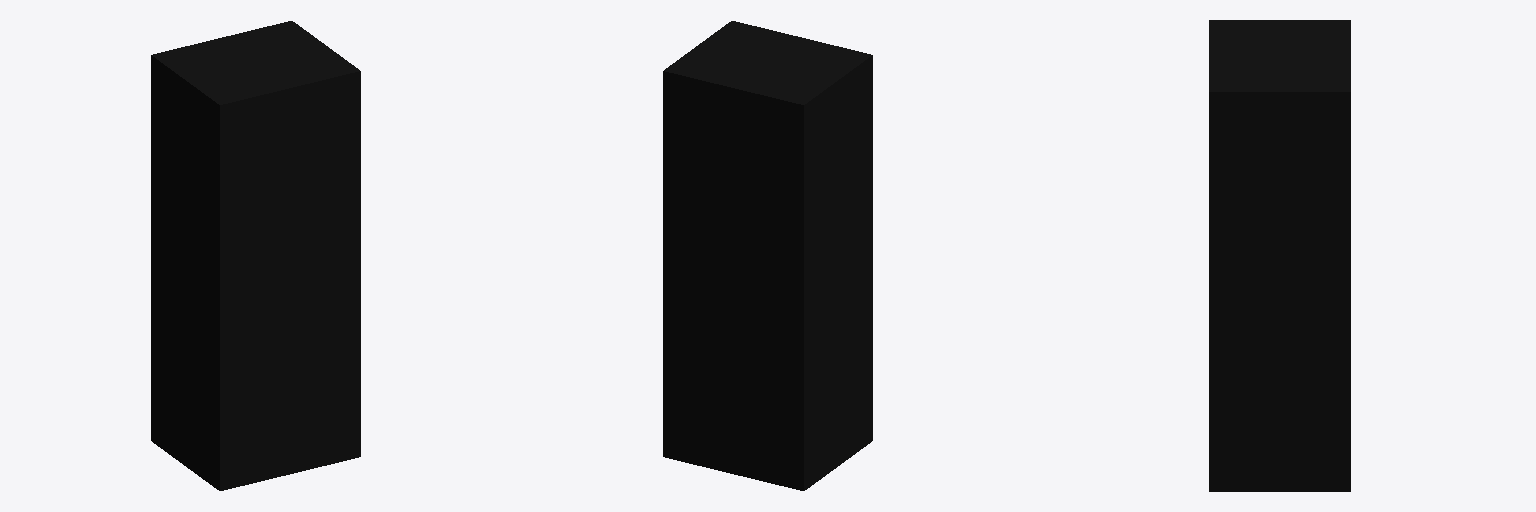
URDF robot description (black_box5):
<?xml version="1.0"?>
<robot name="black_box5">
  <link name="base_link">
    <inertial>
      <origin xyz="0 0 0" rpy="0 0 0" />
      <mass value="0.122" />
      <inertia ixx="0.000360" ixy="0" ixz="0" iyy="0.0000615" iyz="0"
          izz="0.00036" />
    </inertial>
    <visual>
      <origin xyz="0 0 0" rpy="0 0 0" />
      <geometry>
        <box size="0.065 0.055 0.17" />
      </geometry>
      <material name="blackish">
        <color rgba="0.1 0.1 0.1 1.0" />
      </material>
    </visual>

    <!--
      This places contact spheres on the corners of the visual box and a
      *slightly* smaller inset contact box (centered on the visual origin). This
      accounts for issues in the contact computation providing stable table
      contact *and* supports grasping.

      When the box is in stable contact with the ground plane, the corner
      spheres will provide fixed contact points (simulating distributed contact
      points around the face).  However, for arbitrary grip configuration, the
      slightly inset box will provide contact with a *slight* offset (in this
      case a deviation of 0.0005 m from the visual surface).

      https://github.com/RobotLocomotion/drake/issues/6254 tracks the
      difficulty in supporting face-to-face contact.
     -->
    <collision>
      <geometry>
        <box size="0.064 0.054 0.169" />
      </geometry>
    </collision>

    <collision>
      <origin xyz="-0.0825 -0.0275 -0.085" rpy="0 0 0"/>
      <geometry>
        <sphere radius="1e-7"/>
      </geometry>
    </collision>
    <collision>
      <origin xyz="-0.0825 0.0275 -0.085" rpy="0 0 0"/>
      <geometry>
        <sphere radius="1e-7"/>
      </geometry>
    </collision>
    <collision>
      <origin xyz="0.0825 0.0275 -0.085" rpy="0 0 0"/>
      <geometry>
        <sphere radius="1e-7"/>
      </geometry>
    </collision>
    <collision>
      <origin xyz="0.0825 -0.0275 -0.085" rpy="0 0 0"/>
      <geometry>
        <sphere radius="1e-7"/>
      </geometry>
    </collision>

    <!-- Add some spheres near the center too -->
    <collision>
      <origin xyz="-0.0 -0.0275 -0.085" rpy="0 0 0"/>
      <geometry>
        <sphere radius="1e-7"/>
      </geometry>
    </collision>

    <collision>
      <origin xyz="-0.0 0.0275 -0.085" rpy="0 0 0"/>
      <geometry>
        <sphere radius="1e-7"/>
      </geometry>
    </collision>

    <collision>
      <origin xyz="-0.0325 -0.0275 0.085" rpy="0 0 0"/>
      <geometry>
        <sphere radius="1e-7"/>
      </geometry>
    </collision>
    <collision>
      <origin xyz="-0.0325 0.0275 0.085" rpy="0 0 0"/>
      <geometry>
        <sphere radius="1e-7"/>
      </geometry>
    </collision>
    <collision>
      <origin xyz="0.0325 0.0275 0.085" rpy="0 0 0"/>
      <geometry>
        <sphere radius="1e-7"/>
      </geometry>
    </collision>
    <collision>
      <origin xyz="0.0325 -0.0275 0.085" rpy="0 0 0"/>
      <geometry>
        <sphere radius="1e-7"/>
      </geometry>
    </collision>

    <collision>
      <origin xyz="-0.0 -0.0275 0.085" rpy="0 0 0"/>
      <geometry>
        <sphere radius="1e-7"/>
      </geometry>
    </collision>

    <collision>
      <origin xyz="-0.0 0.0275 0.085" rpy="0 0 0"/>
      <geometry>
        <sphere radius="1e-7"/>
      </geometry>
    </collision>

  </link>
</robot>

--- Facts derived from the render (not from the file) ---
3 views of the same robot in one strip: view 1: azimuth 30°, elevation 25°; view 2: azimuth 150°, elevation 25°; view 3: azimuth 270°, elevation 25° (orthographic).
Model black_box5 with 1 links and 0 joints (none), rooted at base_link, posed every joint at zero.
Links seen in each view (by area): view 1: base_link; view 2: base_link; view 3: base_link.
Boxes of the visible links, x1=… form: base_link: x1=151, y1=21, x2=360, y2=490; base_link: x1=663, y1=21, x2=872, y2=490; base_link: x1=1209, y1=20, x2=1350, y2=491.
Size in the robot's own frame: 0.065 by 0.055 by 0.17 metres.
Geometry: primitives only (box / cylinder / sphere), no mesh files.